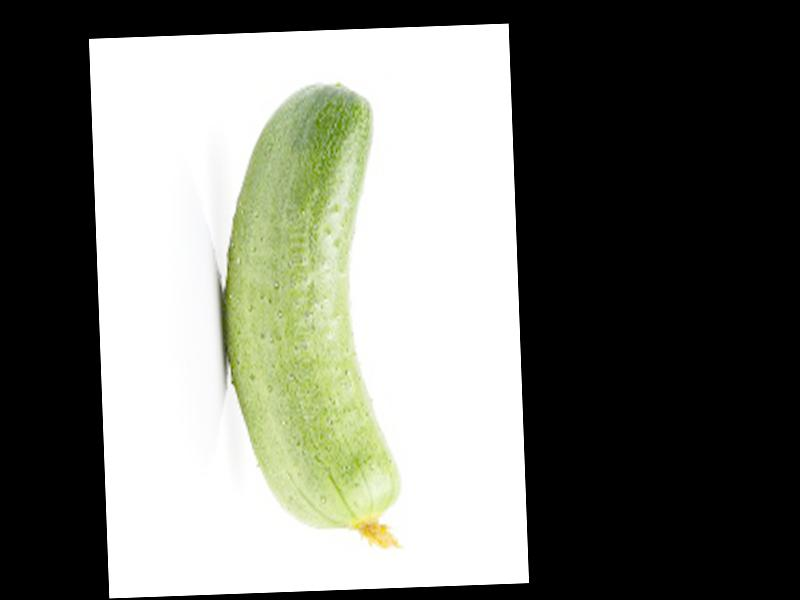Cucumber: (214, 79, 405, 559)
